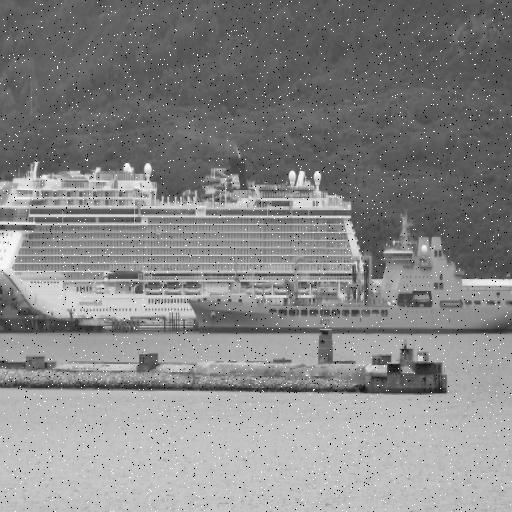cruises: (1, 97, 384, 327)
